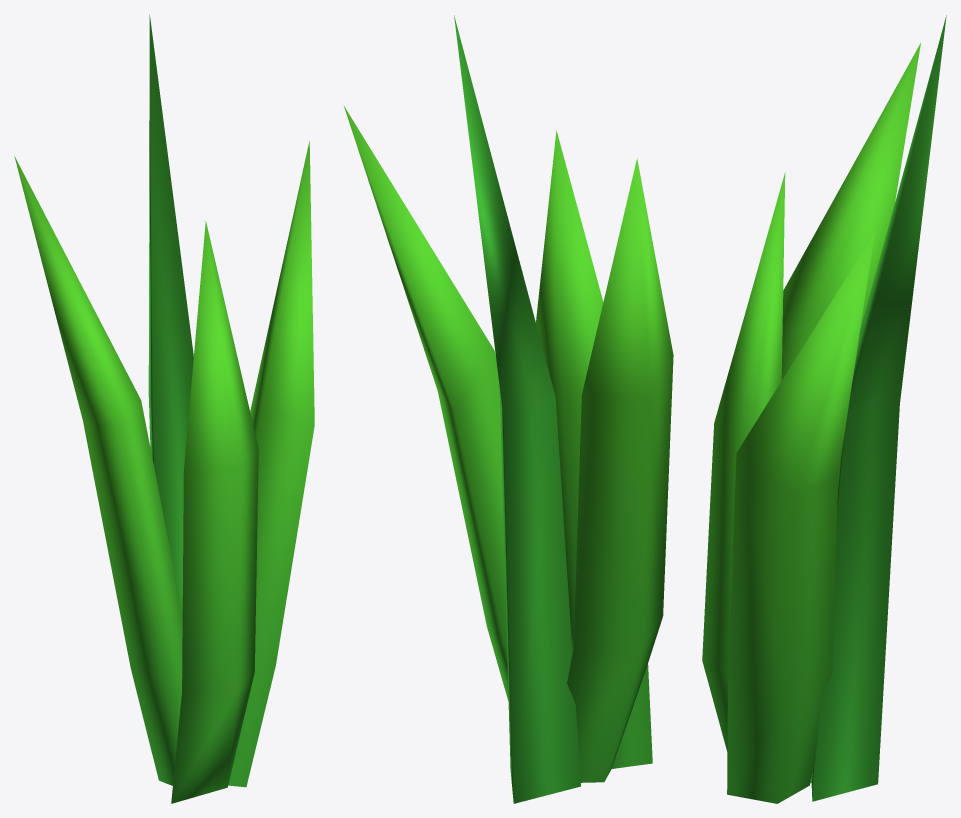
File: Plant_2_B_2.glb
The picture shows the model from 3 angles, left to right: view 1: azimuth 30°, elevation 25°; view 2: azimuth 150°, elevation 25°; view 3: azimuth 270°, elevation 25°; orthographic projection. The views are drawn at different scales.
Visible parts, largest first — view 1: Plant_2_B_2; view 2: Plant_2_B_2; view 3: Plant_2_B_2.
Boxes of the visible parts, <box> form: Plant_2_B_2: <box>14,14,314,803</box>; Plant_2_B_2: <box>343,15,673,803</box>; Plant_2_B_2: <box>702,15,946,803</box>.
Bounding box in the file's own units: 0.112 × 0.2729 × 0.0774.
1 material, 1 textured.
